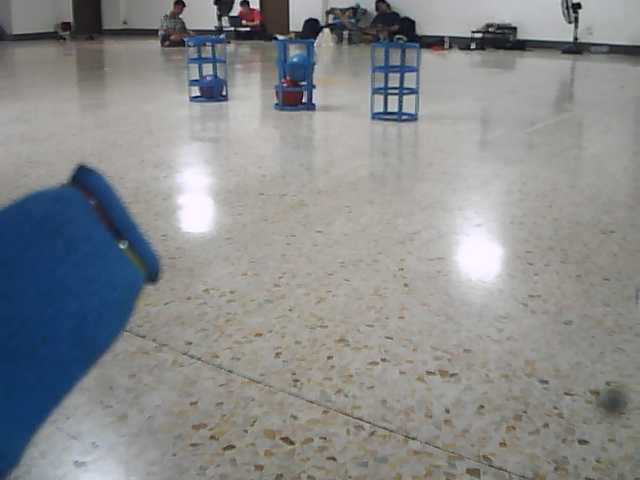Blue ball: (286, 53, 313, 80)
Cyro: (368, 39, 423, 124), (271, 37, 321, 115), (183, 34, 232, 105)
Purple ball: (197, 72, 225, 101)
Red ball: (275, 80, 304, 107)
